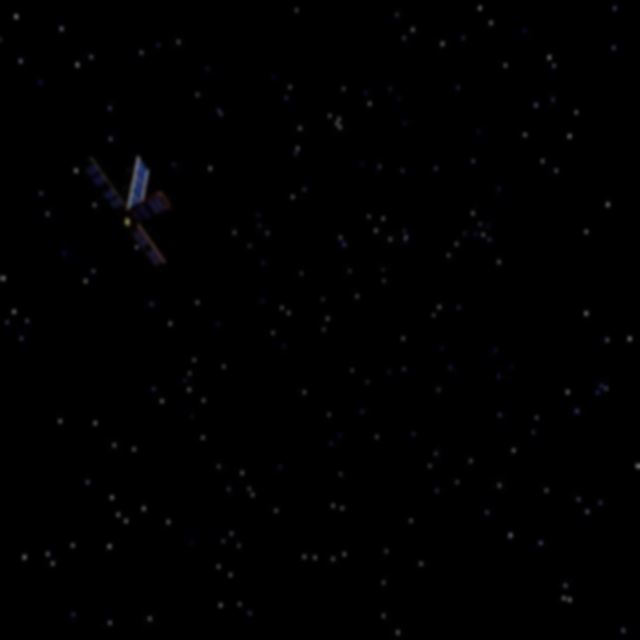medium_debris: (78, 139, 172, 273)
